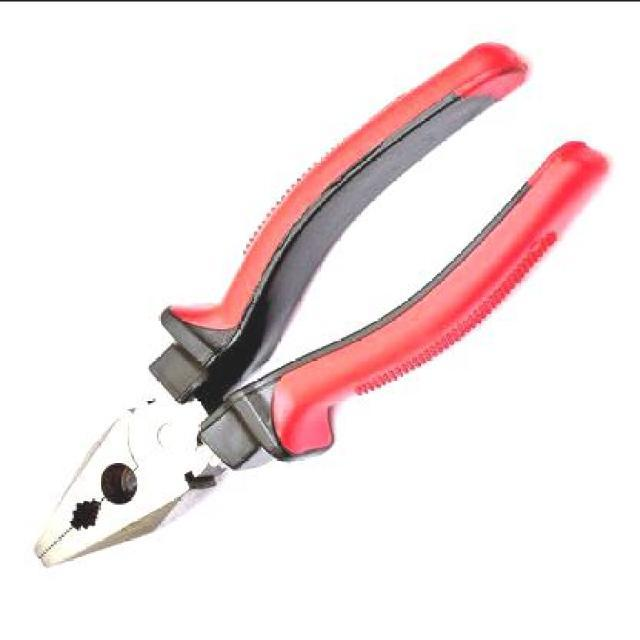pliers: (35, 30, 608, 568)
